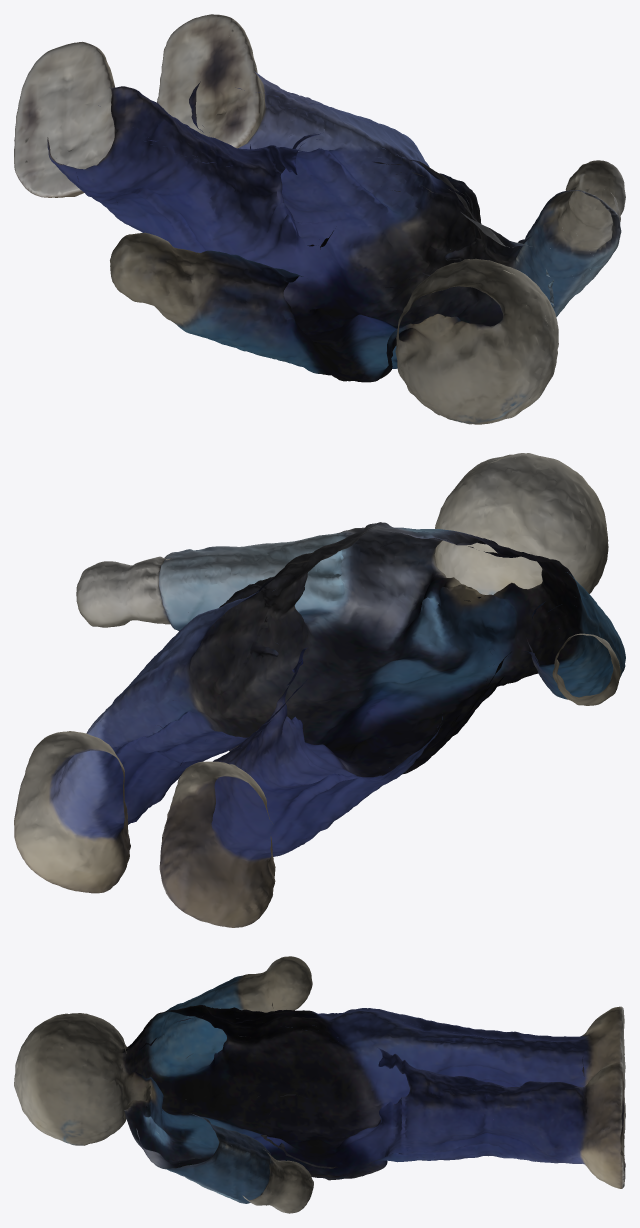
Rendered from grandfather.glb.
The picture shows the model from 3 angles, top to bottom: view 1: azimuth 30°, elevation 25°; view 2: azimuth 150°, elevation 25°; view 3: azimuth 270°, elevation 25°; orthographic projection. The views are drawn at different scales.
Bounding box in the file's own units: 0.7488 × 0.2436 × 1.
